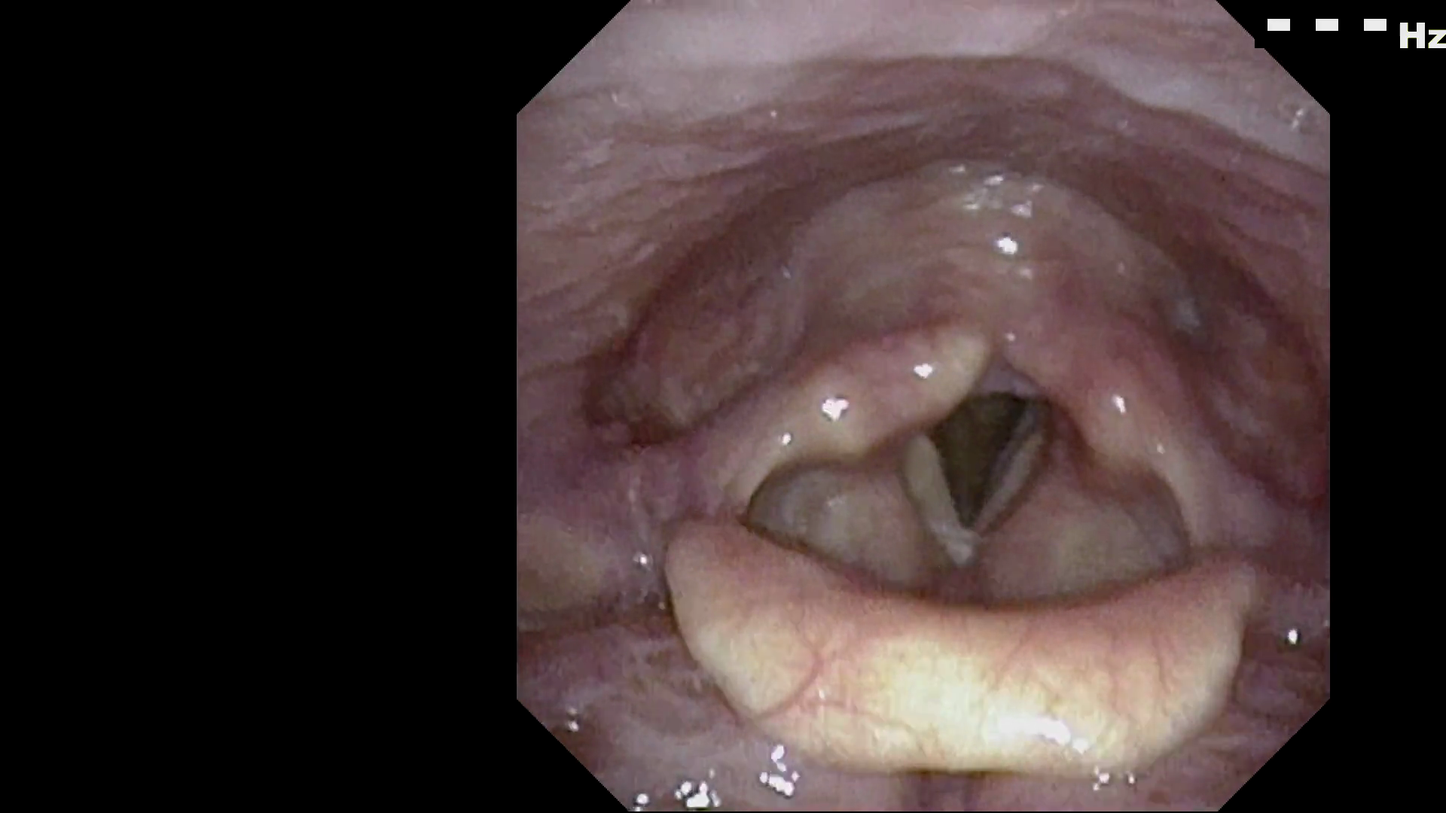epiglottis: (673, 521, 1256, 753)
trachea: (898, 371, 1064, 544)
